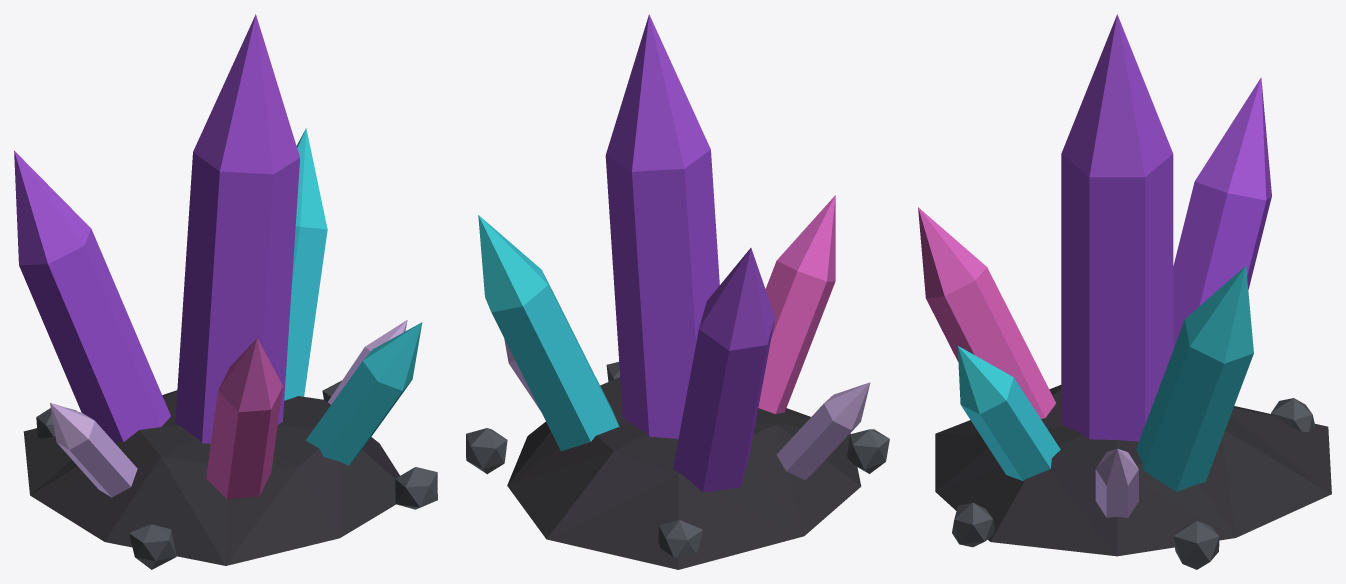
File: crystal_cluster.glb
3 renders of one model, left to right at view 1: azimuth 30°, elevation 25°; view 2: azimuth 150°, elevation 25°; view 3: azimuth 270°, elevation 25°, orthographic. The views are drawn at different scales.
Parts seen in each view (by area): view 1: crystal_cluster; view 2: crystal_cluster; view 3: crystal_cluster.
Part boxes in pixels (x1=…): crystal_cluster: x1=14, y1=14, x2=437, y2=569; crystal_cluster: x1=466, y1=14, x2=889, y2=569; crystal_cluster: x1=918, y1=14, x2=1331, y2=569.
Size of the model in its own units: 2.06 by 2.52 by 1.92.
